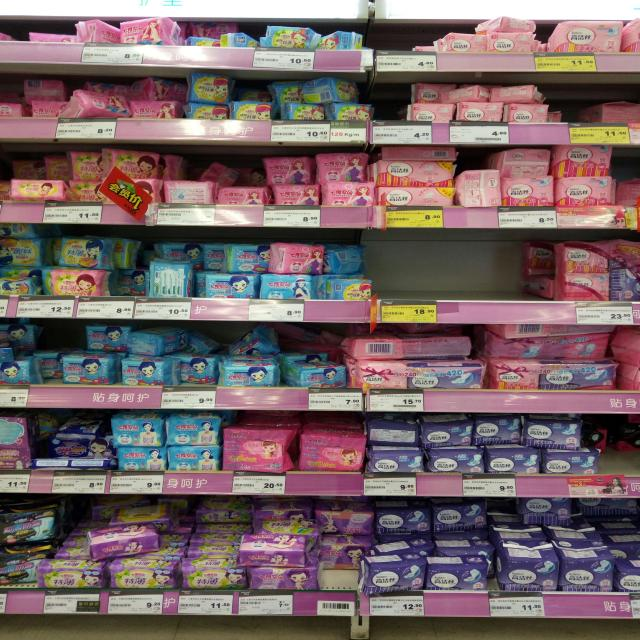void: (381, 230, 427, 323), (508, 234, 552, 323), (425, 230, 466, 324), (467, 234, 508, 322), (556, 80, 600, 143), (410, 17, 444, 71), (376, 18, 410, 72), (376, 81, 406, 142)
